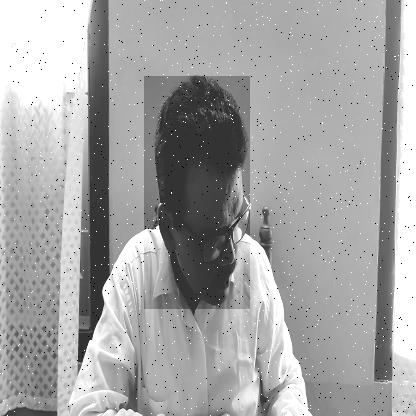Distracted: (144, 76, 250, 309)
